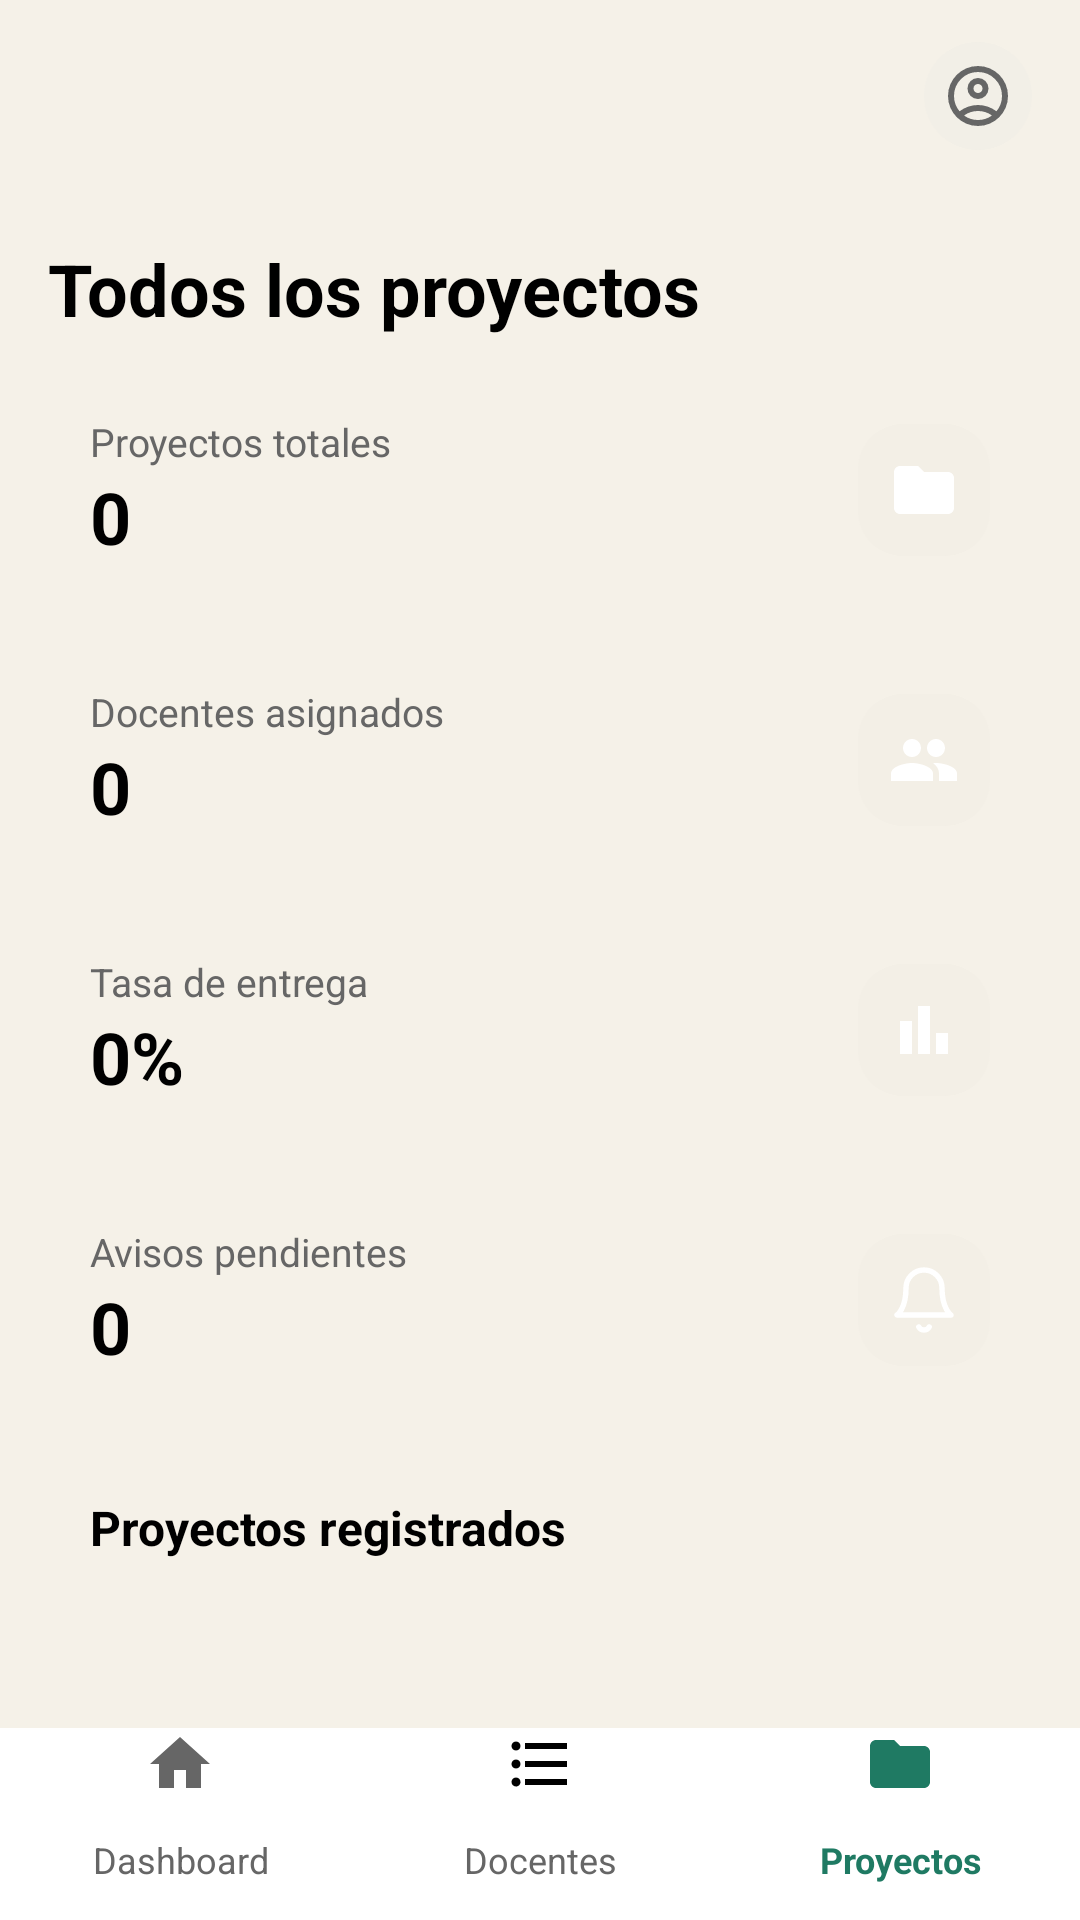

Screen size 1080*1920. Icon name, then its box in pixels as (x1, y1, x2, y2):
Perfil: (948, 66, 1008, 126)
